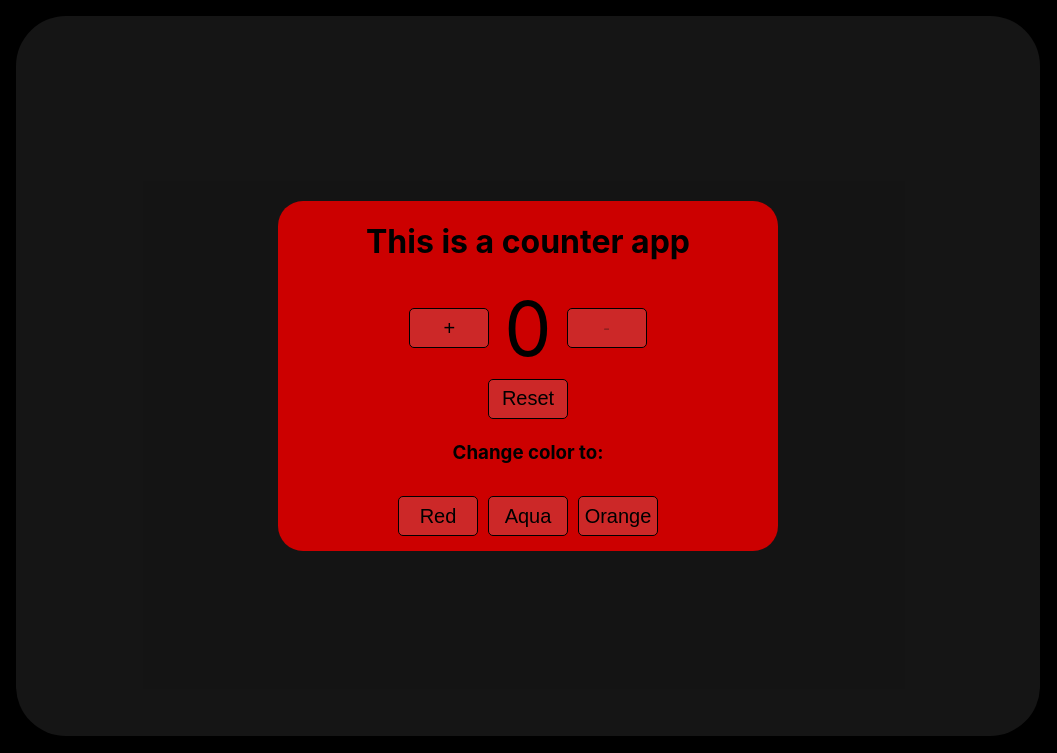
Test: Counter testing › render the click event of increment button and increment counter value
Click the button with id "increment-btn": (449, 328) [409,308,489,348]
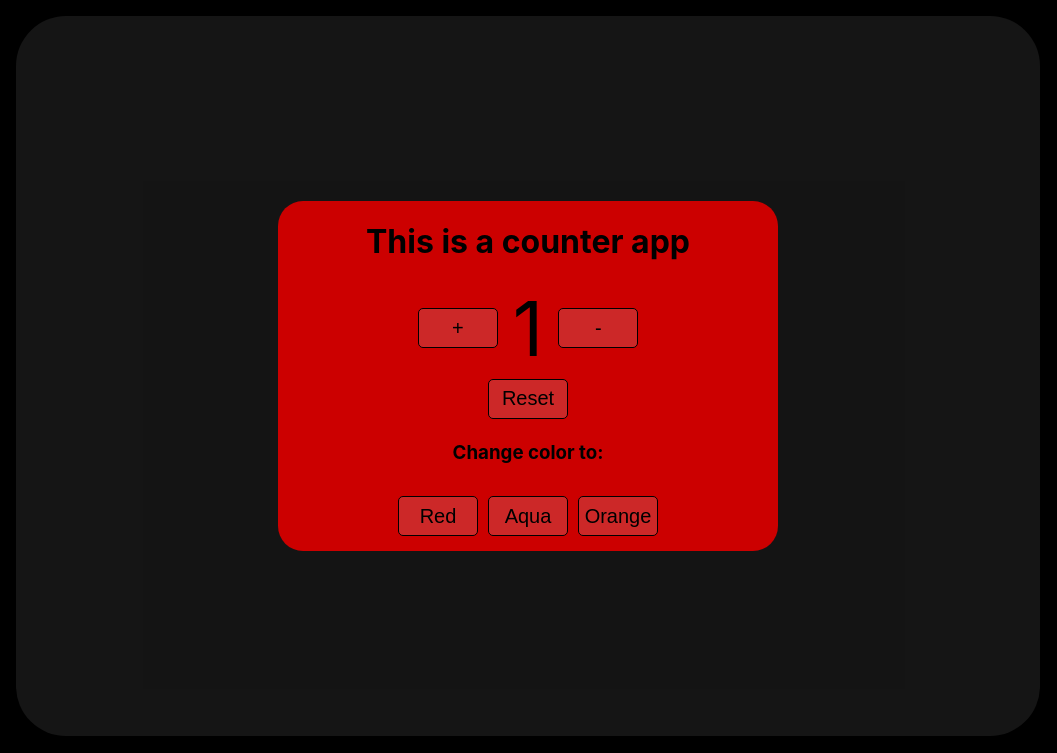
Expected: the text with id "counter-value" reads "1", [513,283,543,374]
